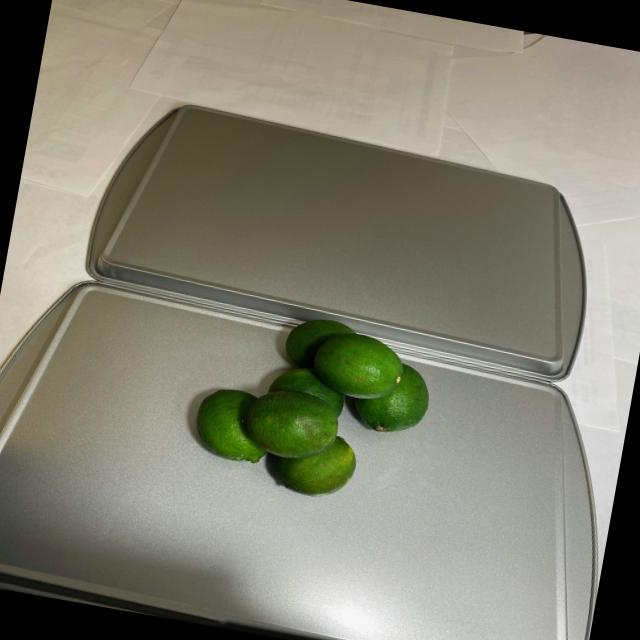lemon: (180, 296, 454, 522)
